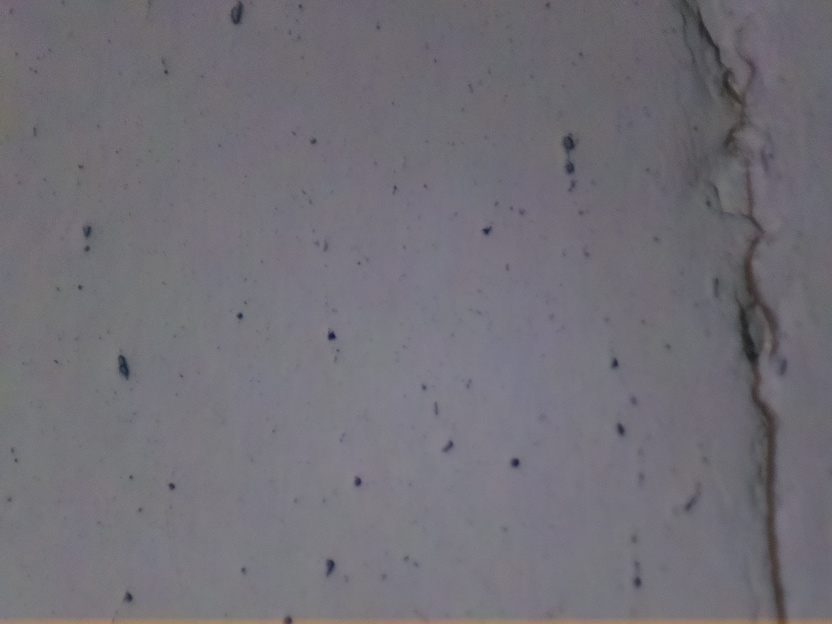crack: (680, 0, 823, 621)
